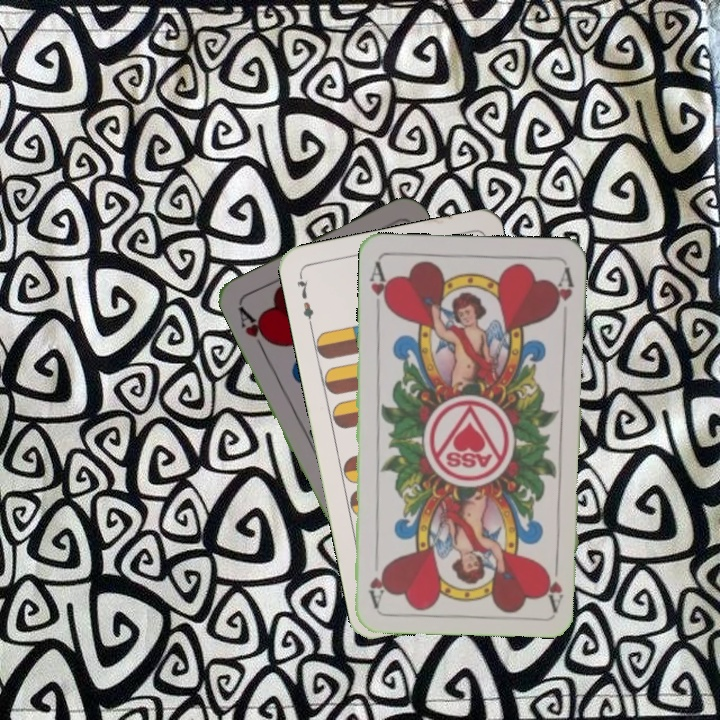E7: (293, 270, 316, 329)
HA: (234, 299, 275, 355), (365, 258, 392, 317), (543, 552, 566, 612)
